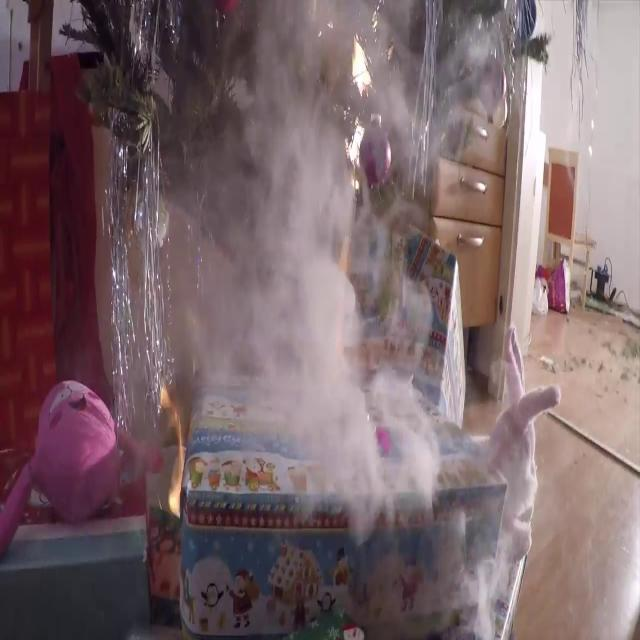Smoke: (175, 51, 394, 586), (266, 51, 458, 506)
